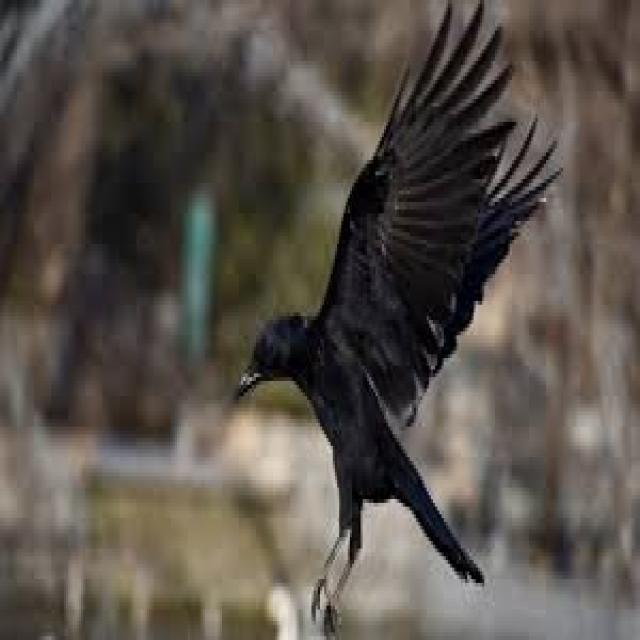crow: (238, 303, 371, 502)
